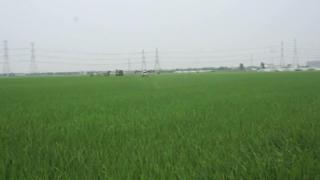UAV: (134, 70, 155, 78)
